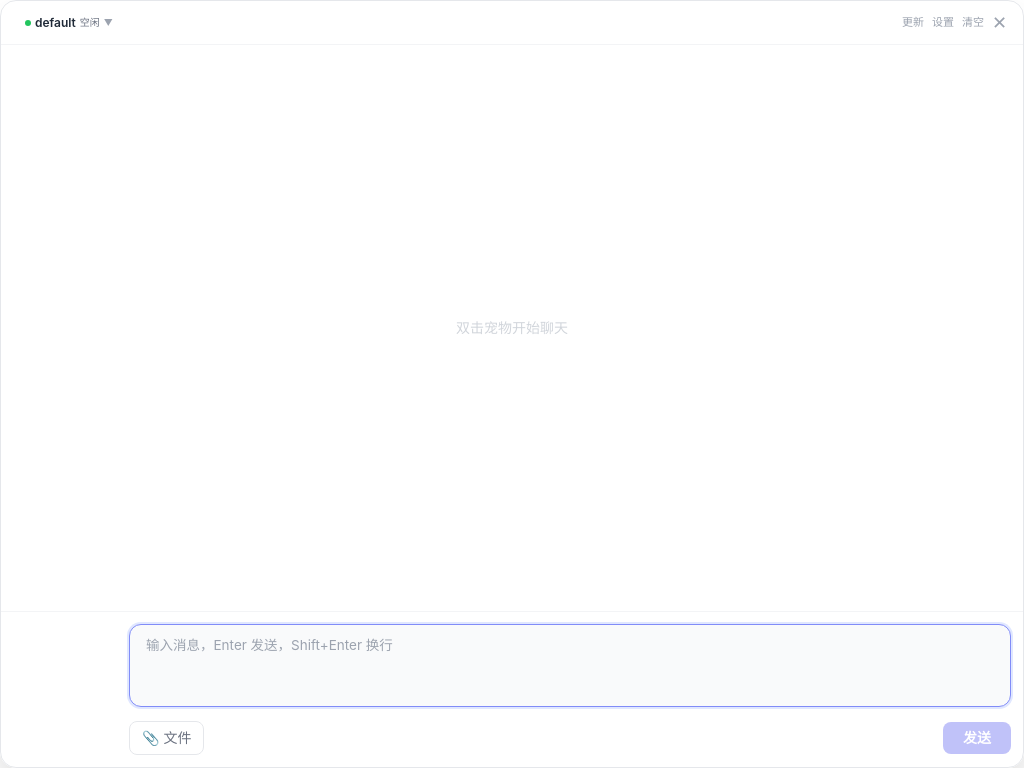
ChatWindow › shows statuses in title and session list, including idle
Expected: the text "空闲" is shown, x1=80 y1=15 x2=100 y2=30
Click the button "default 空闲 ▼": point(69, 22) x1=17 y1=10 x2=121 y2=36
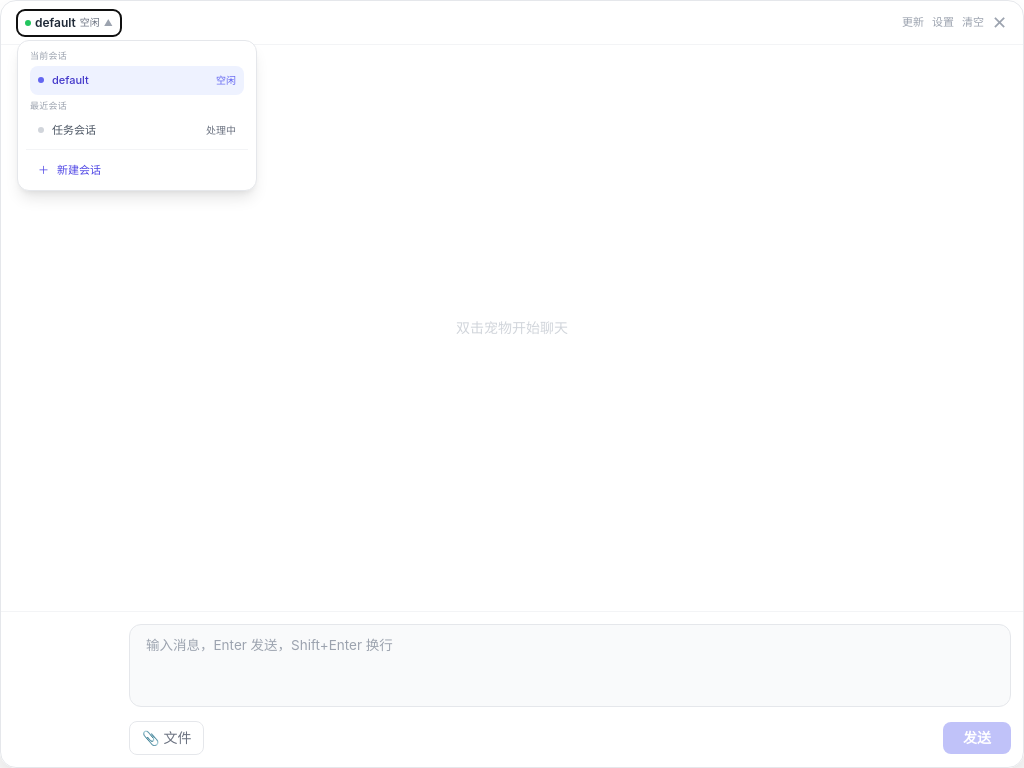
Expected: the text "处理中" is shown, x1=206 y1=123 x2=236 y2=138
